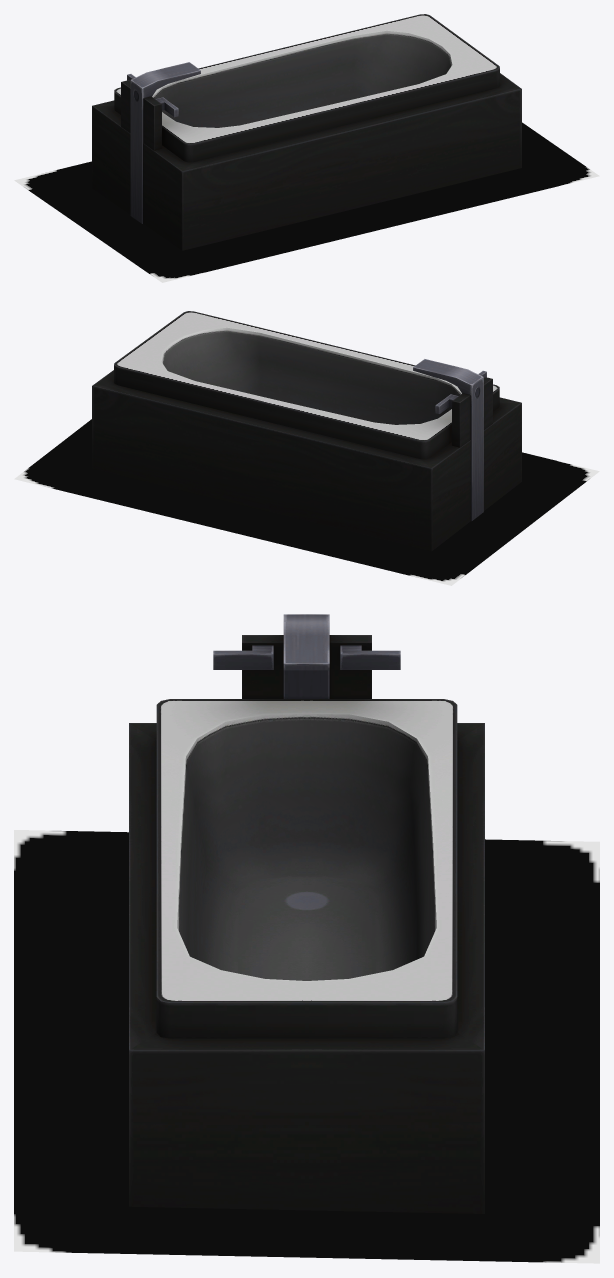
The model's file is jj_ty_bathtubs09_01.FBX.
3 renders of one model, top to bottom at view 1: azimuth 30°, elevation 25°; view 2: azimuth 150°, elevation 25°; view 3: azimuth 270°, elevation 25°, orthographic. The views are drawn at different scales.
Parts seen in each view (by area): view 1: jj_ty_bathtubs09_01, shadow; view 2: jj_ty_bathtubs09_01, shadow; view 3: jj_ty_bathtubs09_01, shadow.
Boxes of the visible parts, left/top/right/bottom form: jj_ty_bathtubs09_01: left=92, top=14, right=521, bottom=250; shadow: left=14, top=122, right=599, bottom=282; jj_ty_bathtubs09_01: left=92, top=311, right=521, bottom=551; shadow: left=14, top=419, right=599, bottom=585; jj_ty_bathtubs09_01: left=129, top=614, right=484, bottom=1213; shadow: left=14, top=830, right=599, bottom=1263.
Size of the model in its own units: 94.25 by 29.31 by 55.34.
Materials: 2 (2 with a texture image).
